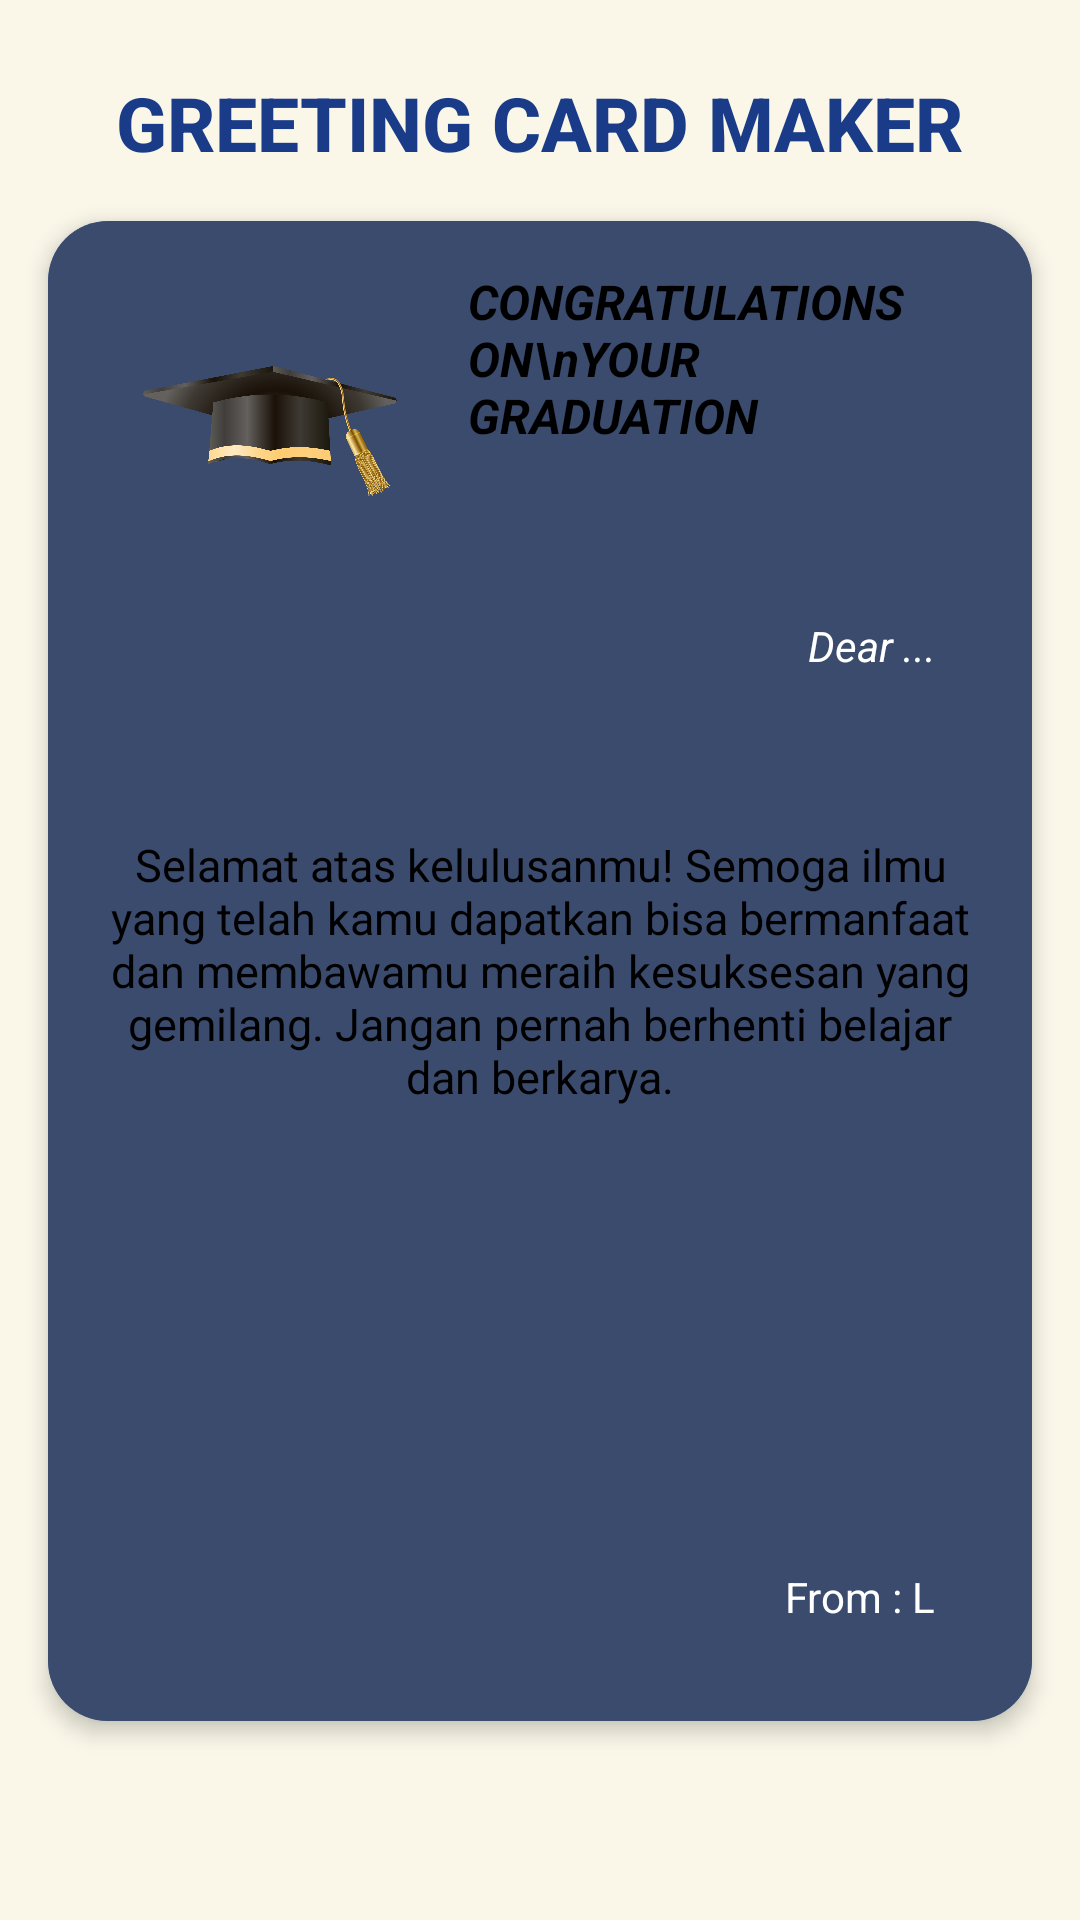

Where icons sit on this 1080px x 1920px app screen, as rect(x1, y1, x2, y2):
topiwisuda: rect(143, 366, 397, 496)
